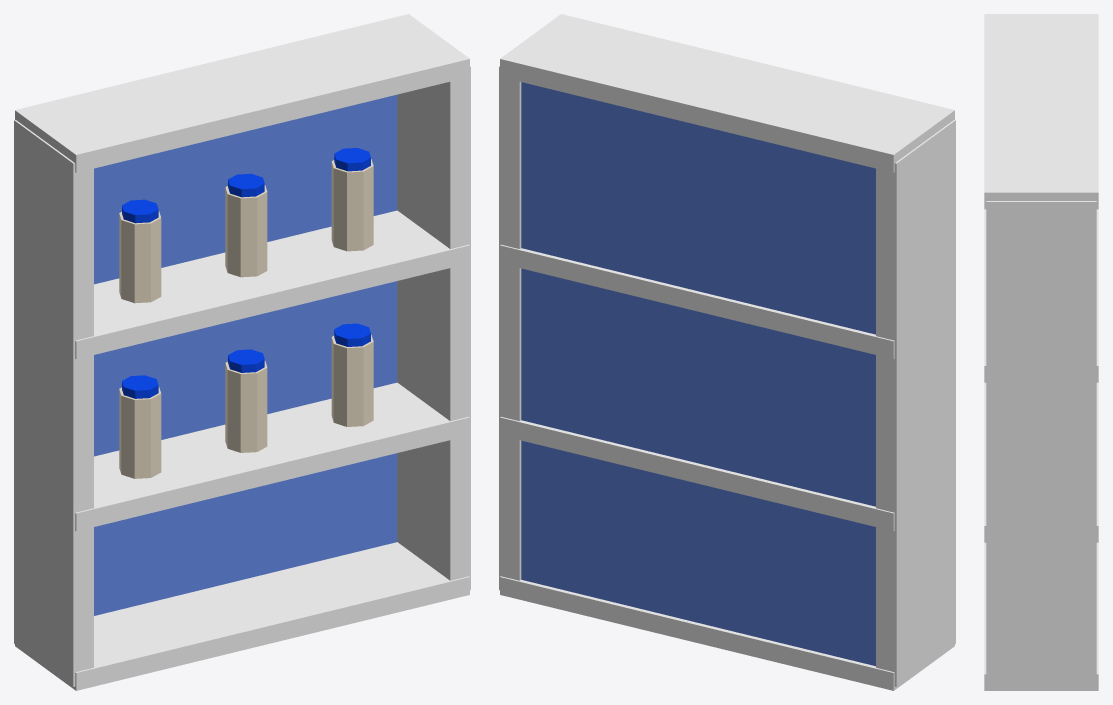
The picture shows the model from 3 angles, left to right: view 1: azimuth 30°, elevation 25°; view 2: azimuth 150°, elevation 25°; view 3: azimuth 270°, elevation 25°; orthographic projection. The views are drawn at different scales.
Parts seen in each view (by area): view 1: Cabinet back, Clean supply cabinet side, Clean supply shelf.003, Clean supply cabinet side.001, Clean supply shelf, Clean supply shelf.002, Clean supply shelf.001, Supply bottle, Supply bottle.001, Supply bottle.004, Supply bottle.003, Supply bottle.002 (+7 smaller); view 2: Cabinet back, Clean supply cabinet side, Clean supply shelf.003, Clean supply cabinet side.001, Clean supply shelf, Clean supply shelf.001, Clean supply shelf.002; view 3: Clean supply cabinet side.001, Clean supply shelf.003, Clean supply shelf, Clean supply shelf.002, Clean supply shelf.001.
Part boxes in pixels (x1=…): Cabinet back: x1=94, y1=94, x2=397, y2=615; Clean supply cabinet side: x1=14, y1=120, x2=93, y2=686; Clean supply shelf.003: x1=15, y1=14, x2=469, y2=172; Clean supply cabinet side.001: x1=397, y1=66, x2=470, y2=590; Clean supply shelf: x1=15, y1=542, x2=469, y2=690; Clean supply shelf.002: x1=75, y1=210, x2=469, y2=359; Clean supply shelf.001: x1=75, y1=382, x2=469, y2=531; Supply bottle: x1=119, y1=386, x2=161, y2=478; Supply bottle.001: x1=225, y1=361, x2=267, y2=452; Supply bottle.004: x1=225, y1=185, x2=267, y2=277; Supply bottle.003: x1=119, y1=211, x2=161, y2=303; Supply bottle.002: x1=331, y1=334, x2=373, y2=426; Cabinet back: x1=521, y1=82, x2=875, y2=666; Clean supply cabinet side: x1=876, y1=120, x2=955, y2=686; Clean supply shelf.003: x1=500, y1=14, x2=954, y2=172; Clean supply cabinet side.001: x1=499, y1=66, x2=521, y2=590; Clean supply shelf: x1=500, y1=576, x2=954, y2=690; Clean supply shelf.001: x1=500, y1=417, x2=894, y2=531; Clean supply shelf.002: x1=500, y1=244, x2=894, y2=359; Clean supply cabinet side.001: x1=986, y1=201, x2=1096, y2=688; Clean supply shelf.003: x1=984, y1=14, x2=1098, y2=209; Clean supply shelf: x1=984, y1=542, x2=1098, y2=690; Clean supply shelf.002: x1=984, y1=209, x2=1098, y2=382; Clean supply shelf.001: x1=984, y1=382, x2=1098, y2=542.
Size of the model in its own units: 116 by 150 by 31.
